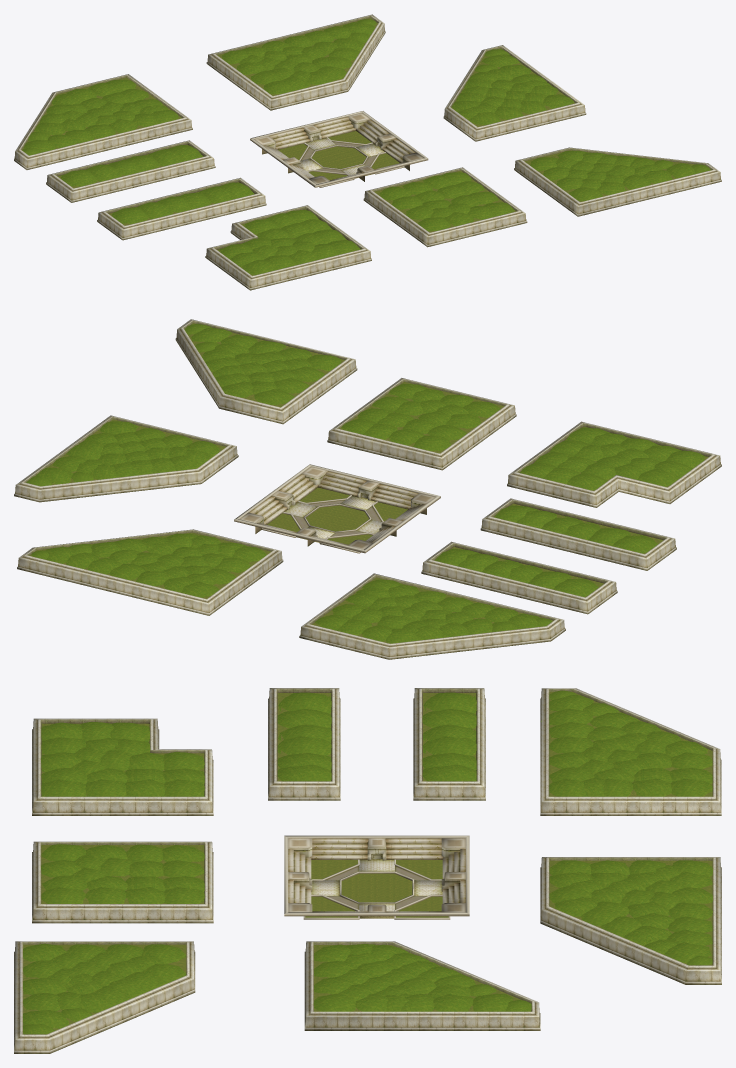
File: a_SWTcen01_a_SWTpart01~a_SWTcen01_a_SWTpart05.glb
3 views of the same model, one above another, from view 1: azimuth 30°, elevation 25°; view 2: azimuth 150°, elevation 25°; view 3: azimuth 270°, elevation 25° (orthographic). The views are drawn at different scales.
Visible parts, largest first — view 1: a_SWTcen01_a_SWTpart01~a_SWTcen01_a_SWTpart05; view 2: a_SWTcen01_a_SWTpart01~a_SWTcen01_a_SWTpart05; view 3: a_SWTcen01_a_SWTpart01~a_SWTcen01_a_SWTpart05.
Part boxes in pixels (bbox=[...]): a_SWTcen01_a_SWTpart01~a_SWTcen01_a_SWTpart05: bbox=[14, 14, 721, 290]; a_SWTcen01_a_SWTpart01~a_SWTcen01_a_SWTpart05: bbox=[14, 319, 721, 659]; a_SWTcen01_a_SWTpart01~a_SWTcen01_a_SWTpart05: bbox=[14, 688, 721, 1053].
Size of the model in its own units: 46 by 1.83 by 39.01.
7 materials, 7 textured.
